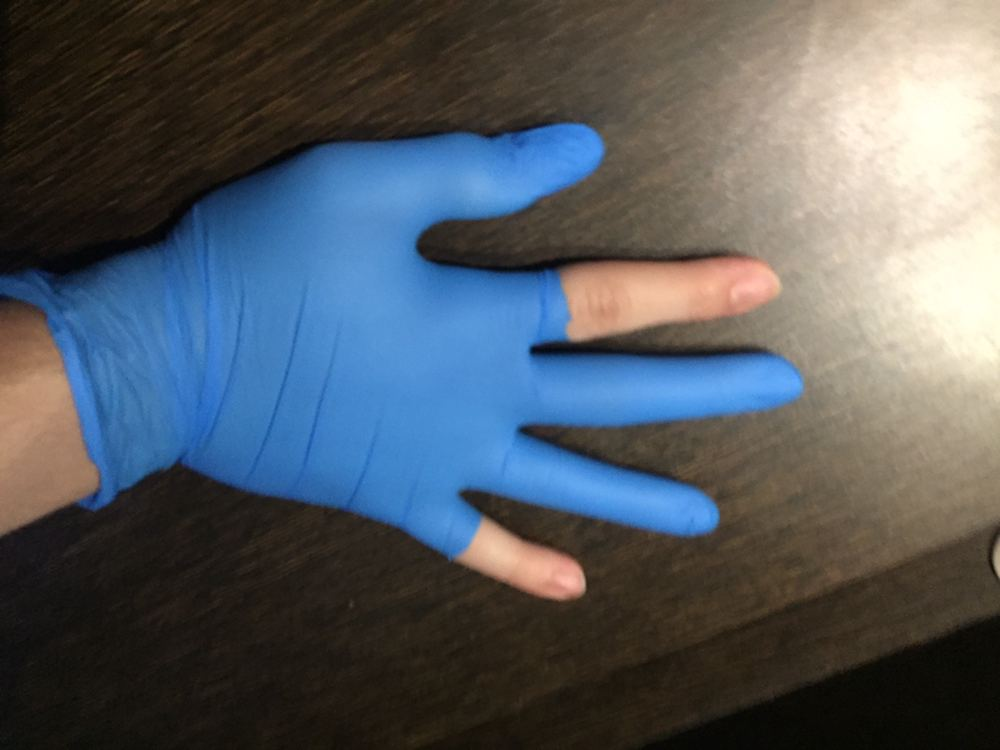defected: (83, 97, 840, 639)
